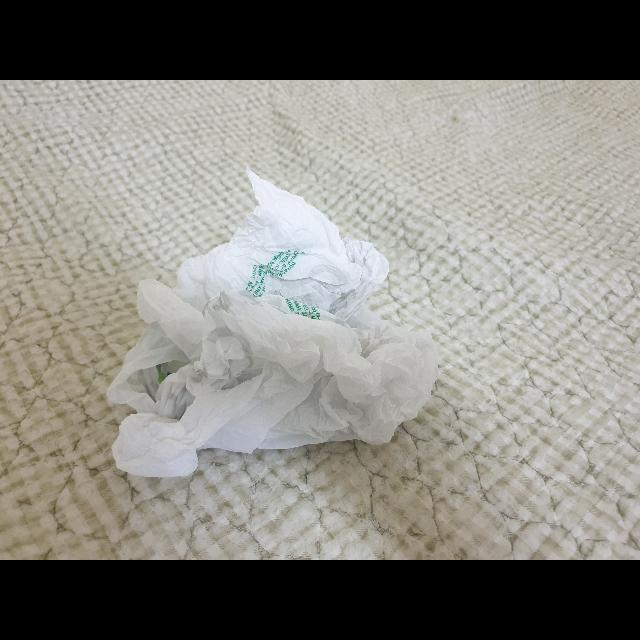plastic_bag: (102, 166, 444, 484)
